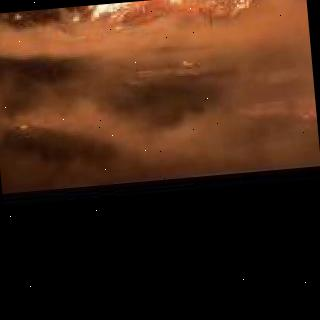fire: (0, 49, 278, 197), (78, 0, 259, 28), (71, 15, 78, 22), (13, 14, 21, 20)
